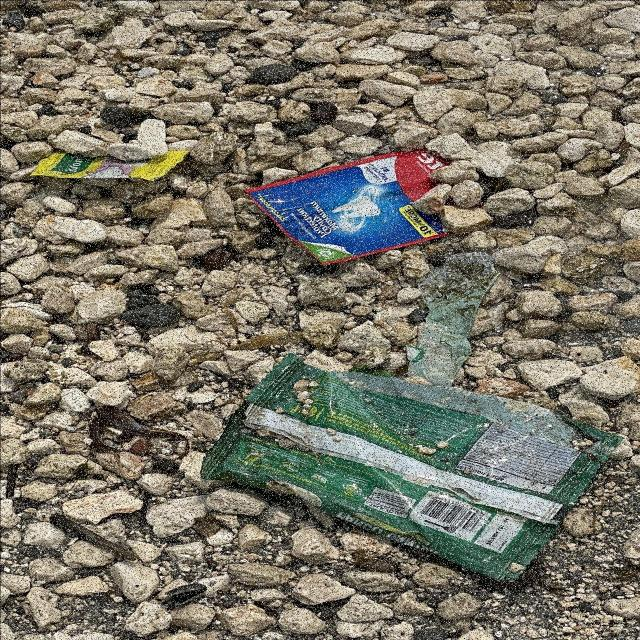plastic_waste: (193, 350, 625, 582), (241, 148, 451, 262), (32, 148, 197, 182)
